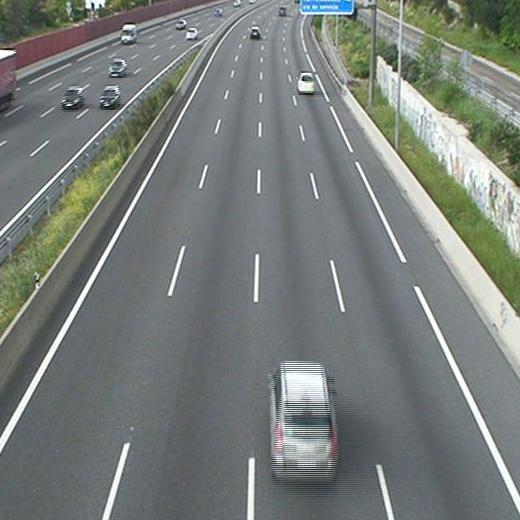car: (269, 363, 337, 469), (297, 74, 315, 92), (250, 28, 261, 37), (278, 6, 287, 16)
